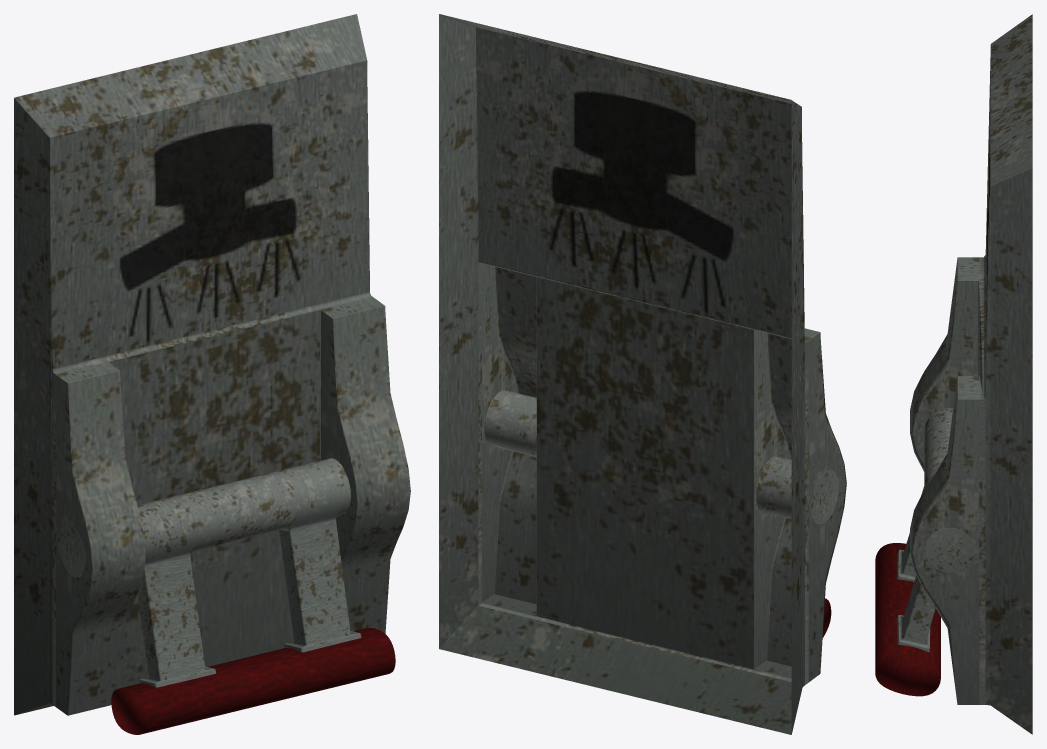
The model's file is button.fbx.
3 renders of one model, left to right at view 1: azimuth 30°, elevation 25°; view 2: azimuth 150°, elevation 25°; view 3: azimuth 270°, elevation 25°, orthographic. The views are drawn at different scales.
Parts seen in each view (by area): view 1: pCube2, pCylinder7; view 2: pCube2, pCylinder7; view 3: pCube2, pCylinder7.
Part boxes in pixels (box(x1,y1,x2,y2)): pCube2: box(14, 14, 410, 715); pCylinder7: box(58, 458, 395, 734); pCube2: box(439, 14, 846, 734); pCylinder7: box(484, 390, 838, 637); pCube2: box(910, 14, 1032, 734); pCylinder7: box(875, 408, 974, 696).
Bounding box in the file's own units: 2.16 × 3.71 × 0.9341.
1 material, 1 textured.
